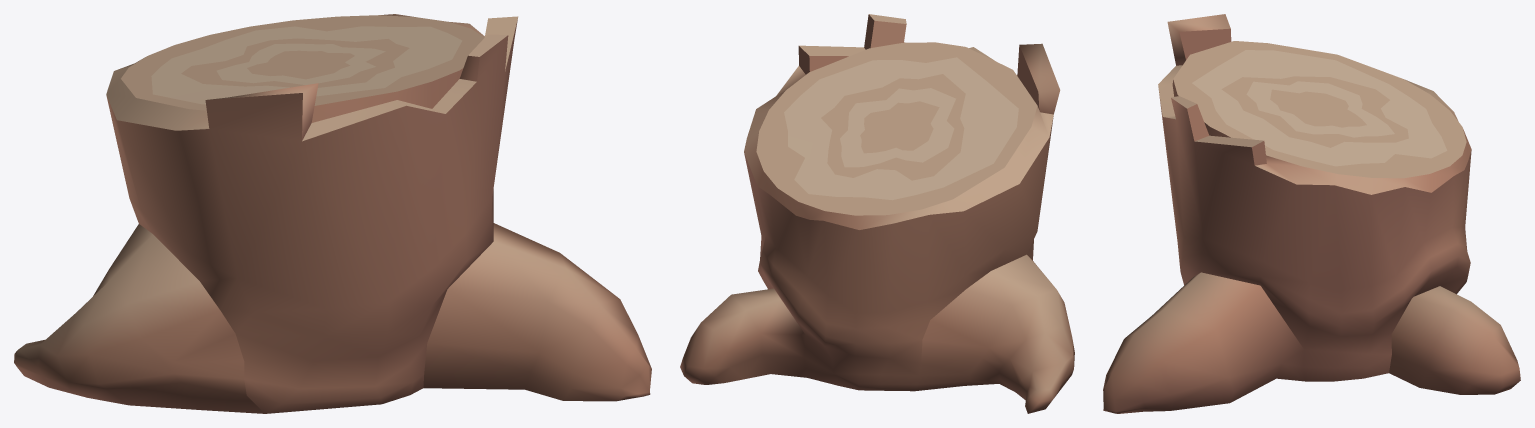
File: obstacle-stump_H1.glb
3 renders of one model, left to right at view 1: azimuth 30°, elevation 25°; view 2: azimuth 150°, elevation 25°; view 3: azimuth 270°, elevation 25°, orthographic. The views are drawn at different scales.
Visible parts, largest first — view 1: obstacle-stump_H1; view 2: obstacle-stump_H1; view 3: obstacle-stump_H1.
Part boxes in pixels (left/top/right/bottom): obstacle-stump_H1: left=14, top=14, right=651, bottom=413; obstacle-stump_H1: left=680, top=14, right=1074, bottom=413; obstacle-stump_H1: left=1103, top=14, right=1520, bottom=413.
Size of the model in its own units: 3.05 by 2.17 by 3.01.
